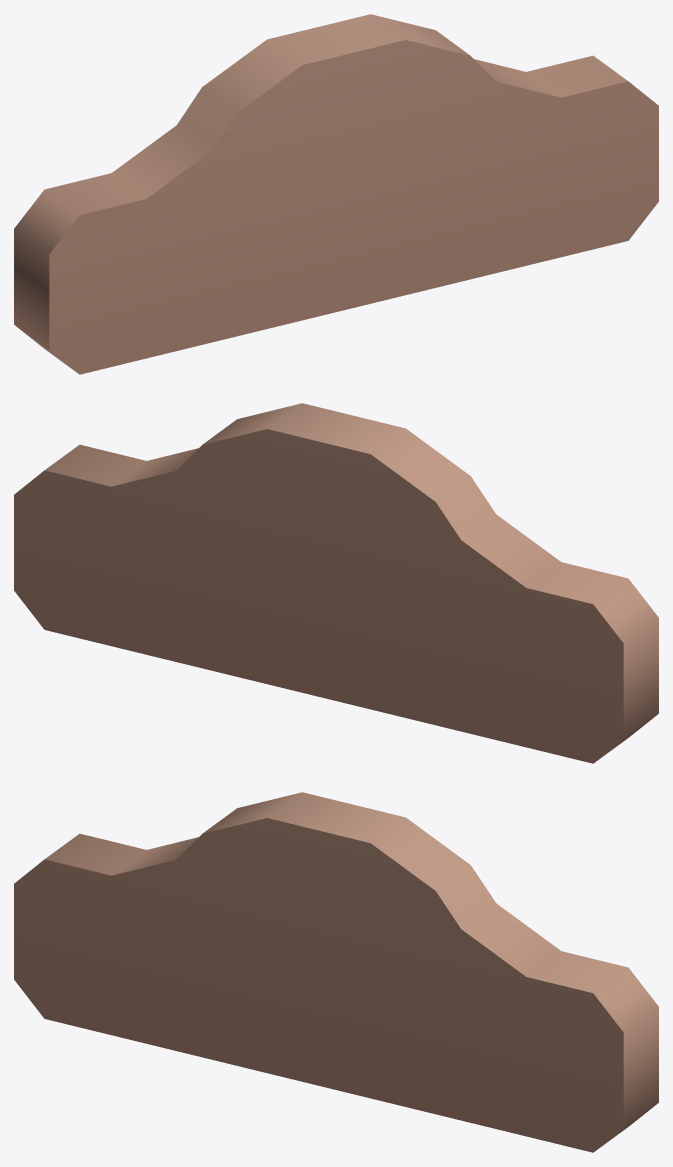
Rendered from plank-small-h.glb.
3 renders of one model, top to bottom at view 1: azimuth 30°, elevation 25°; view 2: azimuth 150°, elevation 25°; view 3: azimuth 330°, elevation 25°, orthographic.
Parts seen in each view (by area): view 1: plank-small-h; view 2: plank-small-h; view 3: plank-small-h.
Boxes of the visible parts, x1,y1,x2,y2 form: plank-small-h: (14, 14, 658, 374); plank-small-h: (14, 403, 658, 763); plank-small-h: (14, 792, 658, 1152).
Size of the model in its own units: 0.5 by 0.2 by 0.05.
